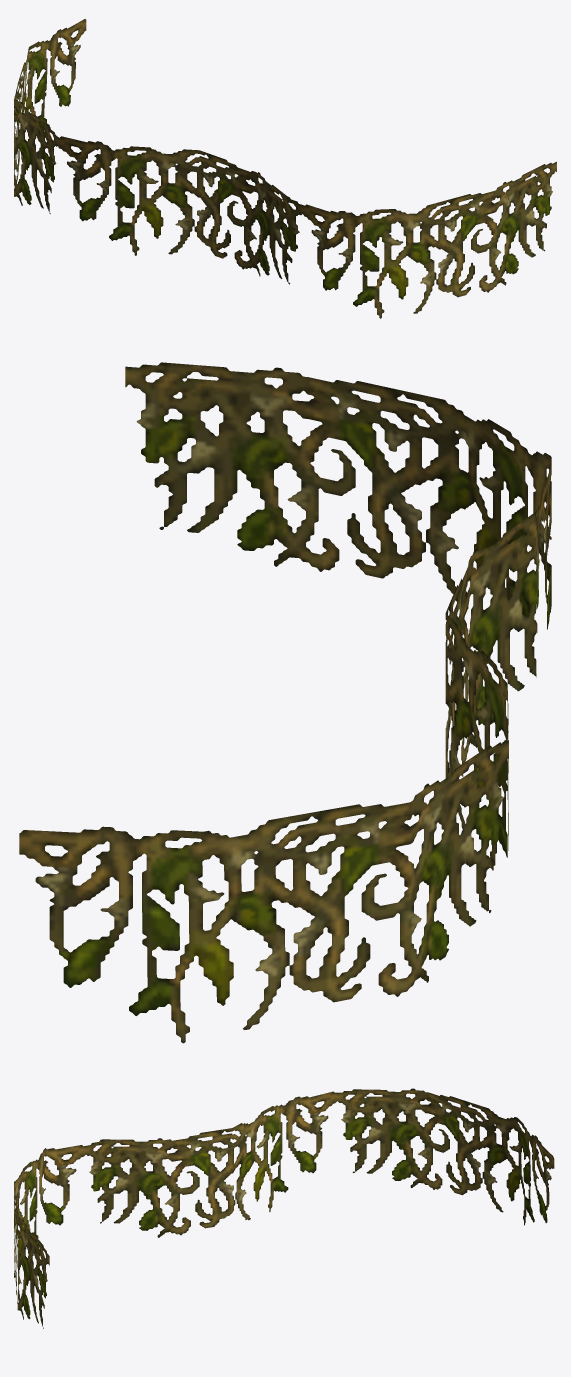
File: OVERHILL_A_01_LINE128.fbx
3 renders of one model, top to bottom at view 1: azimuth 30°, elevation 25°; view 2: azimuth 150°, elevation 25°; view 3: azimuth 270°, elevation 25°, orthographic. The views are drawn at different scales.
Parts seen in each view (by area): view 1: OVERHILL_A_01_LINE128; view 2: OVERHILL_A_01_LINE128; view 3: OVERHILL_A_01_LINE128.
Part boxes in pixels (box(x1,y1,x2,y2)): OVERHILL_A_01_LINE128: box(14, 19, 556, 318); OVERHILL_A_01_LINE128: box(19, 362, 551, 1043); OVERHILL_A_01_LINE128: box(14, 1088, 554, 1328).
Bounding box in the file's own units: 25430 × 8112 × 35688.
Materials: 1 (1 with a texture image).
